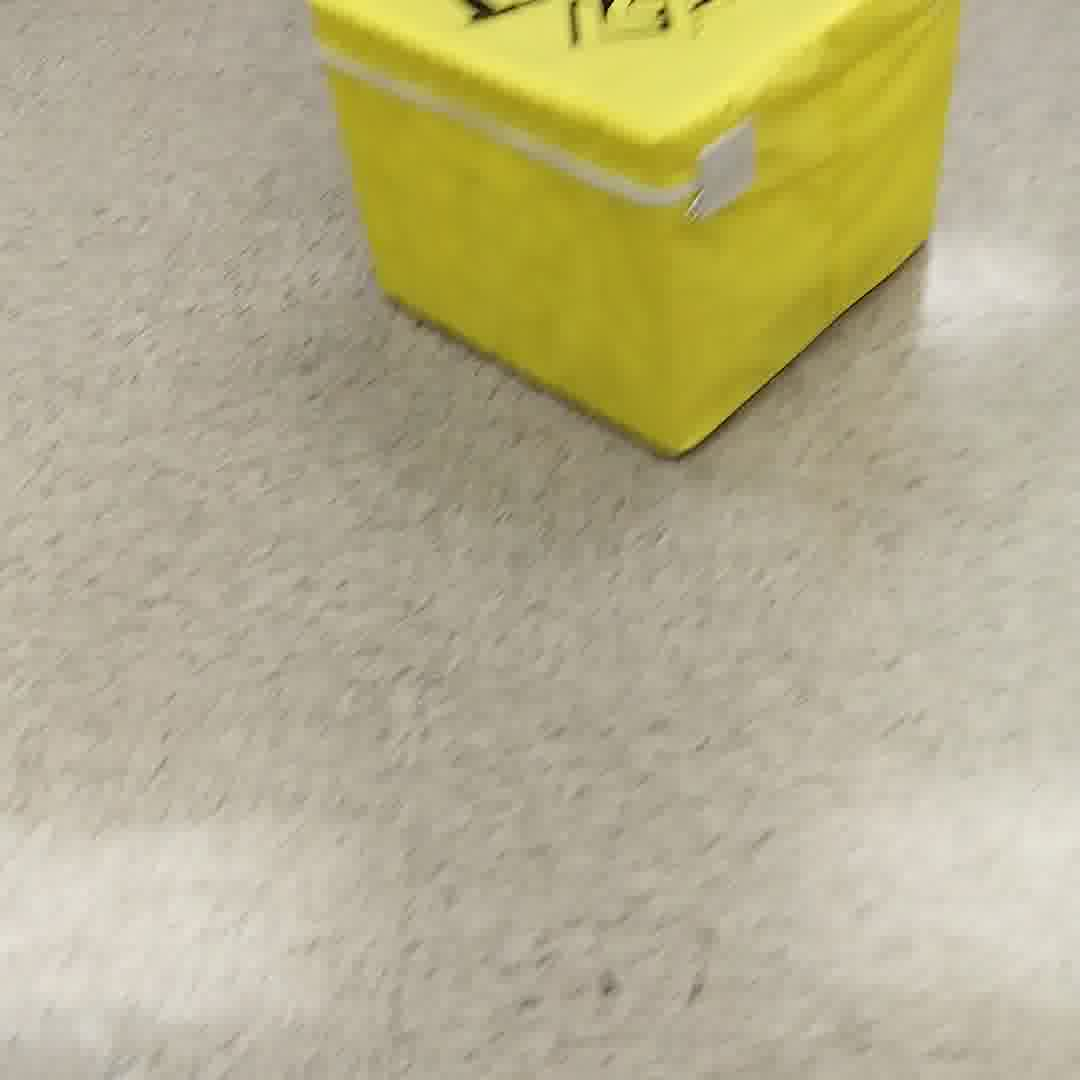box: (299, 4, 937, 457)
